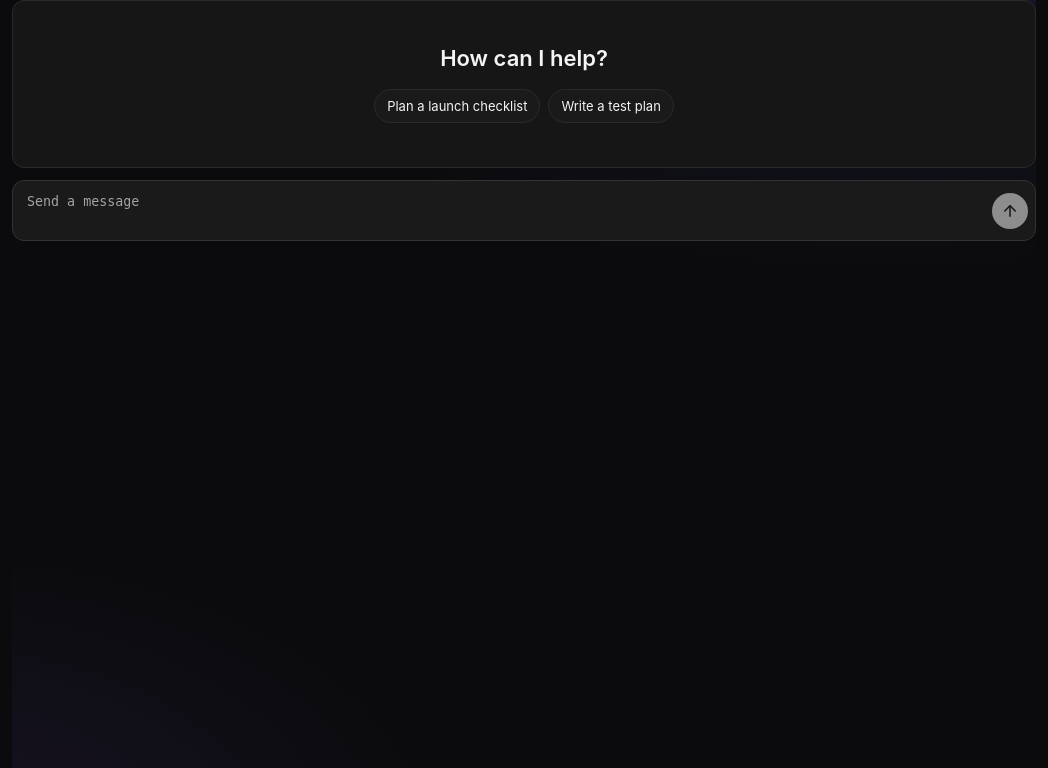
Scenario: Chorus shell rendering › fills and focuses the composer when a suggested prompt is clicked
The width and height of the screenshot is (1048, 768).
Click the button "Plan a launch checklist" at (457,106), box [374,89,540,123]
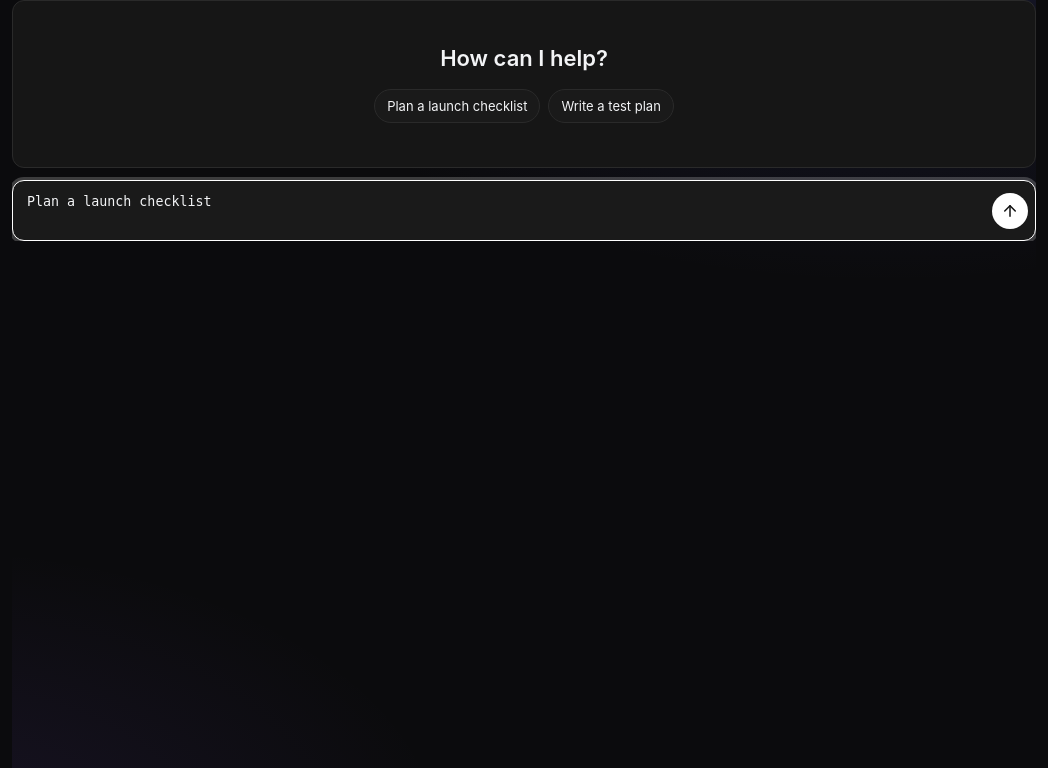
Now the text box named "Send a message" holds "Plan a launch checklist", box [12,180,1036,241]
